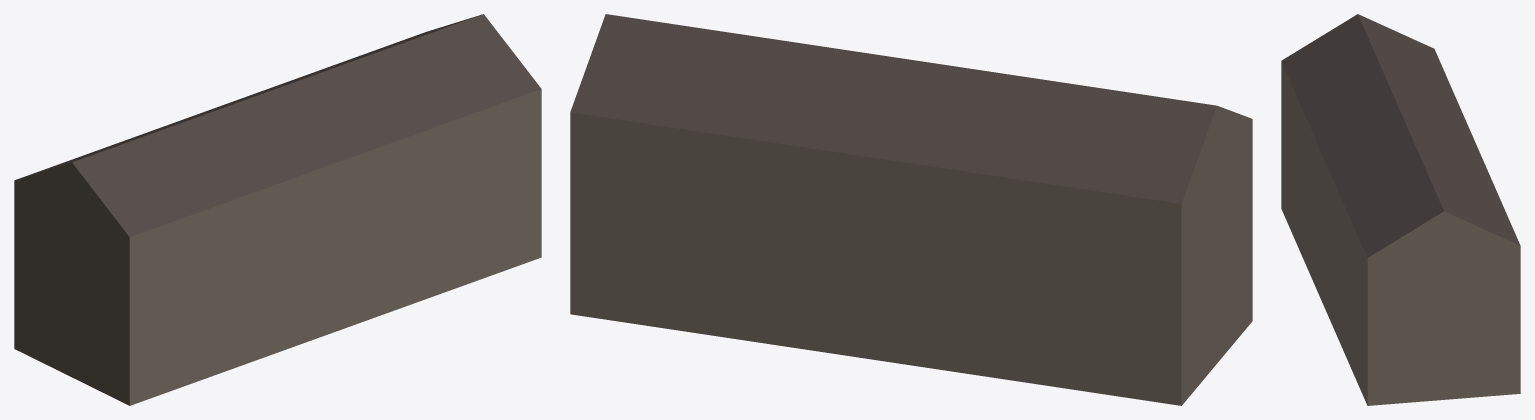
The picture shows the model from 3 angles, left to right: view 1: azimuth 30°, elevation 25°; view 2: azimuth 150°, elevation 25°; view 3: azimuth 270°, elevation 25°; orthographic projection. The views are drawn at different scales.
Parts seen in each view (by area): view 1: HP-w408450718; view 2: HP-w408450718; view 3: HP-w408450718.
Boxes of the visible parts, box(x1,y1,x2,y2) form: HP-w408450718: box(14, 14, 541, 405); HP-w408450718: box(570, 14, 1252, 405); HP-w408450718: box(1281, 14, 1520, 405).
Size of the model in its own units: 18.22 by 7.65 by 8.8.
